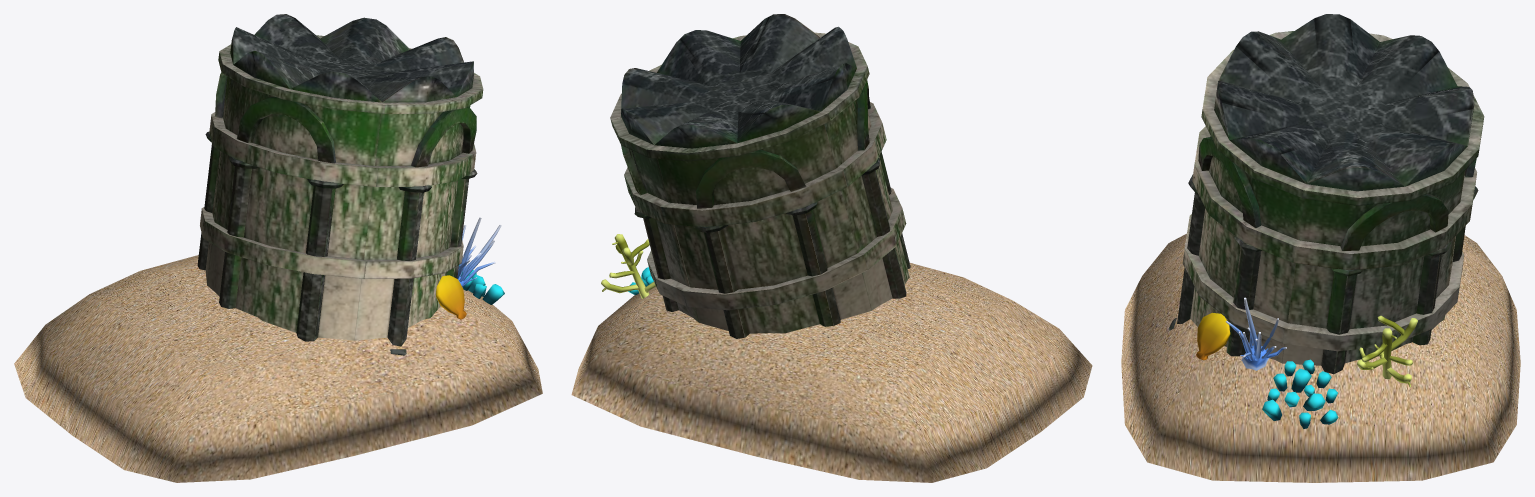
Rendered from track7Building2.glb.
3 renders of one model, left to right at view 1: azimuth 30°, elevation 25°; view 2: azimuth 150°, elevation 25°; view 3: azimuth 270°, elevation 25°, orthographic. The views are drawn at different scales.
Parts seen in each view (by area): view 1: Cube.038; view 2: Cube.038; view 3: Cube.038.
Part boxes in pixels (x1,y1,x2,y2): Cube.038: (14,14,542,482); Cube.038: (571,14,1092,482); Cube.038: (1121,14,1520,482).
Bounding box in the file's own units: 12.87 × 9.87 × 9.91.
3 materials, 3 textured.
